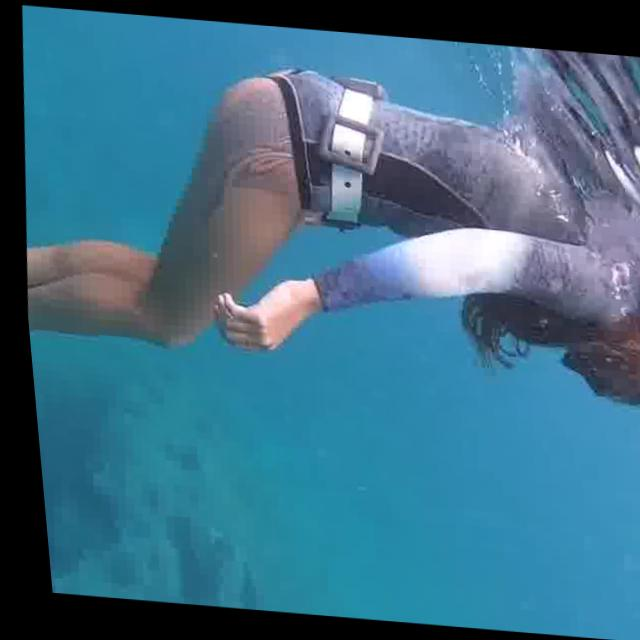human: (2, 35, 640, 453)
